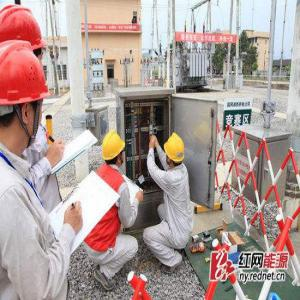red: (2, 39, 49, 153), (1, 4, 47, 68)
yellow: (164, 130, 187, 173), (102, 131, 126, 171)
